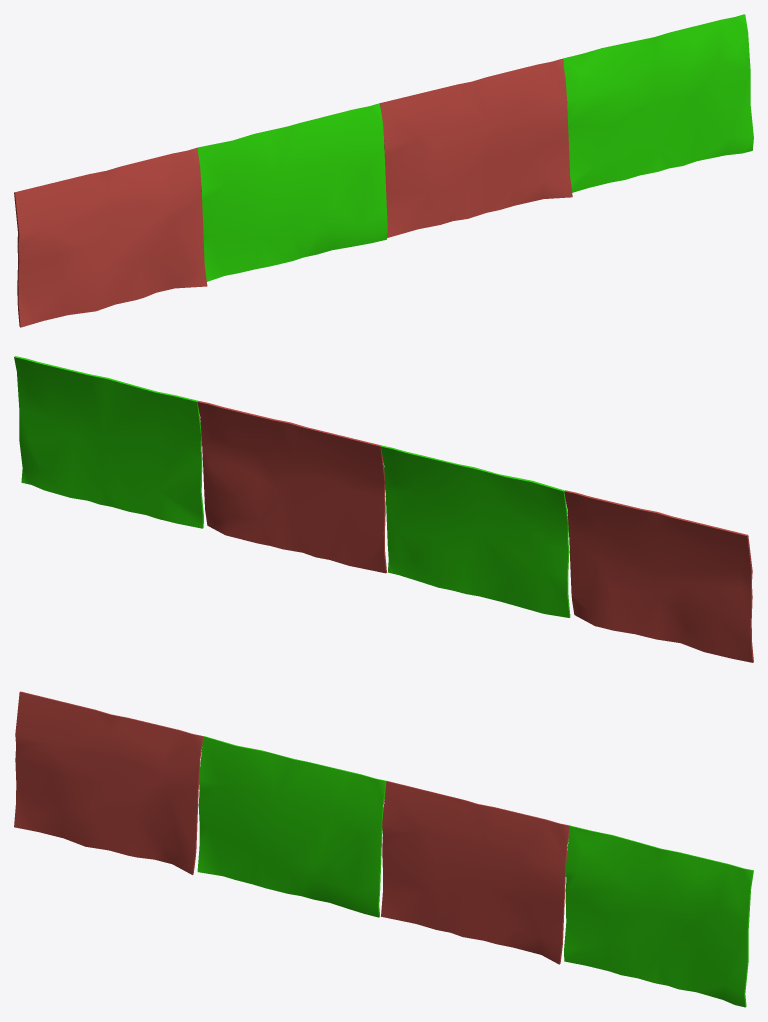
The model's file is PantherII_SideArmor2.fbx.
The picture shows the model from 3 angles, top to bottom: view 1: azimuth 30°, elevation 25°; view 2: azimuth 150°, elevation 25°; view 3: azimuth 330°, elevation 25°; orthographic projection.
Visible parts, largest first — view 1: SideArmor; view 2: SideArmor; view 3: SideArmor.
Part boxes in pixels (x1,y1,x2,y2): SideArmor: [14, 14, 753, 327]; SideArmor: [14, 356, 753, 662]; SideArmor: [14, 691, 753, 1007].
Bounding box in the file's own units: 11.97 × 419 × 71.67.
